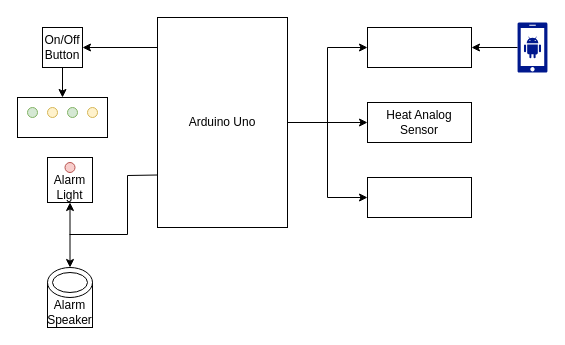
Image size: 565x345. Some labels were removed from this diagram. The shapes that lost their labels are listed below. From the top down, each one's centre as x and y in pixels, then its label:
At [419,47]: "Bluetooth Module".
At [62,117]: "General Lights".
At [419,197]: "Heat & Humidity Digital Sensor".
